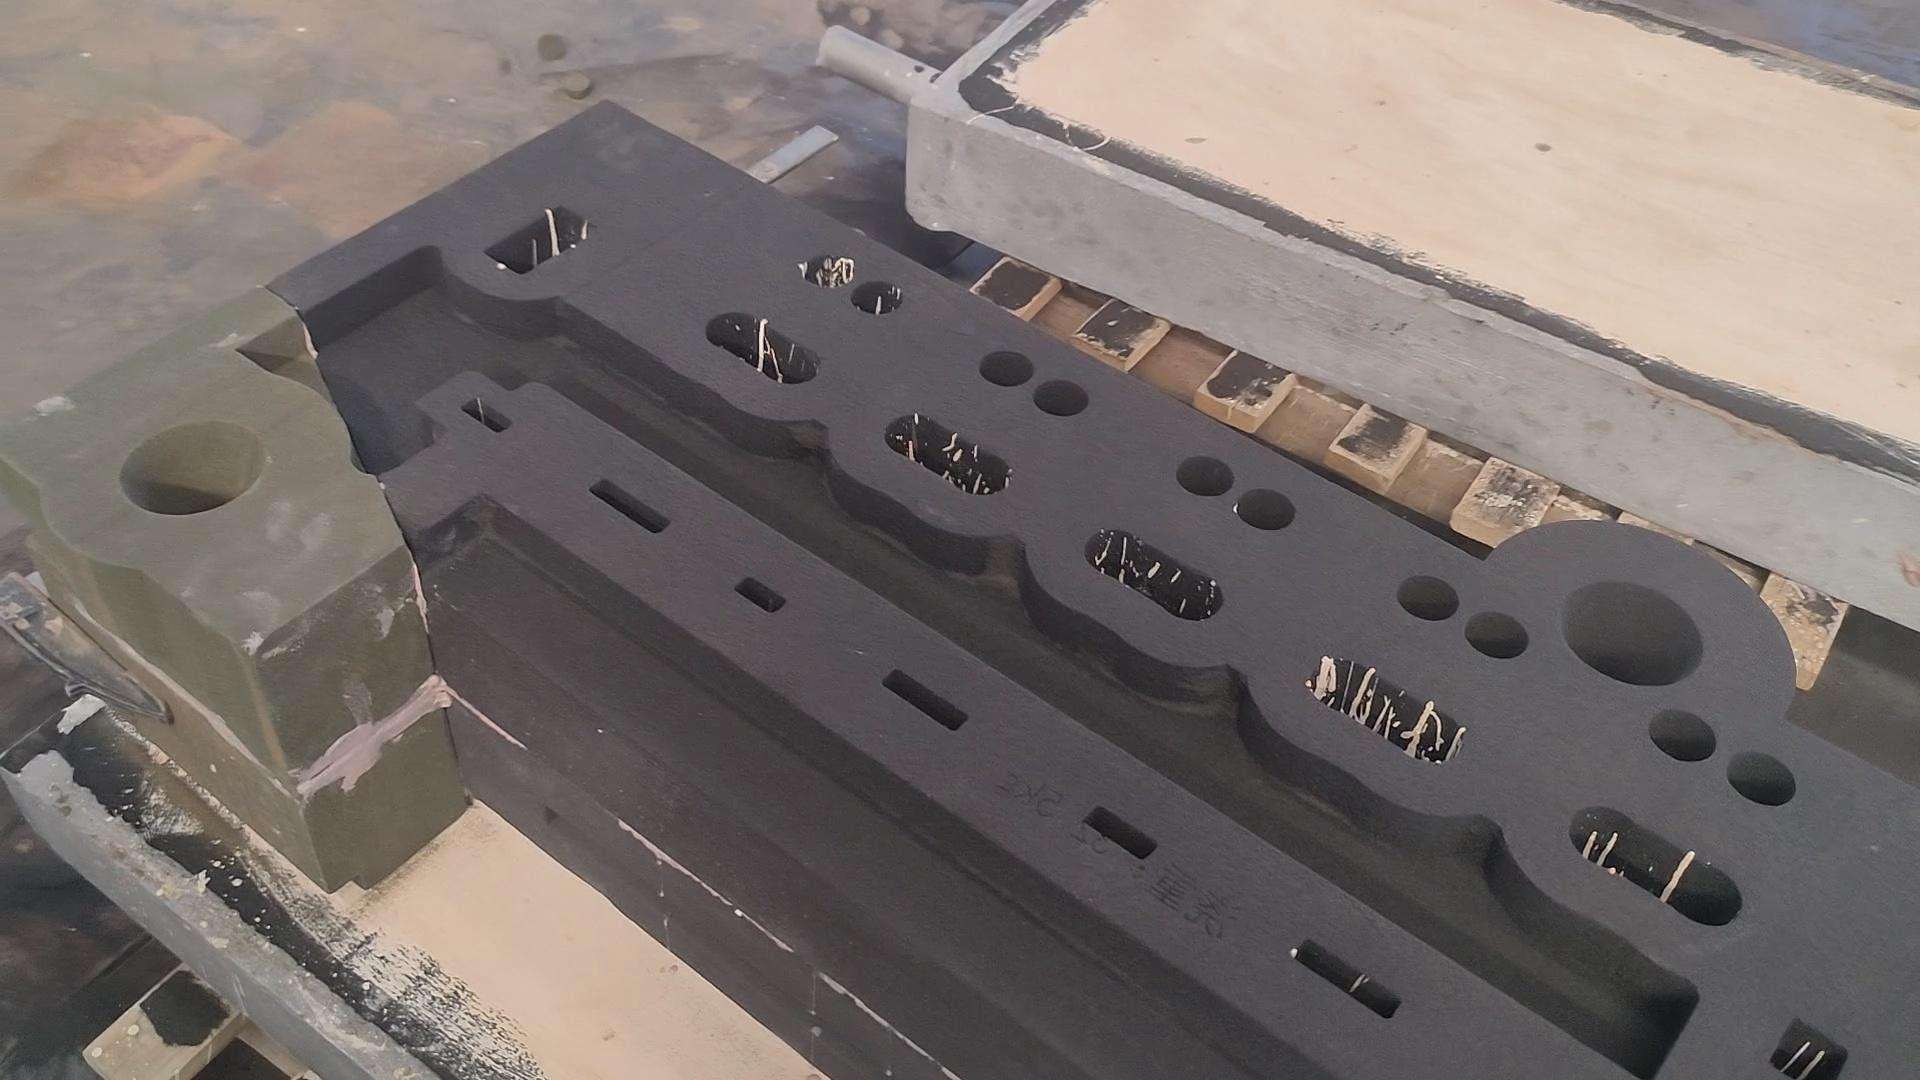pouring hole: (1560, 582, 1702, 684), (119, 421, 265, 514)
